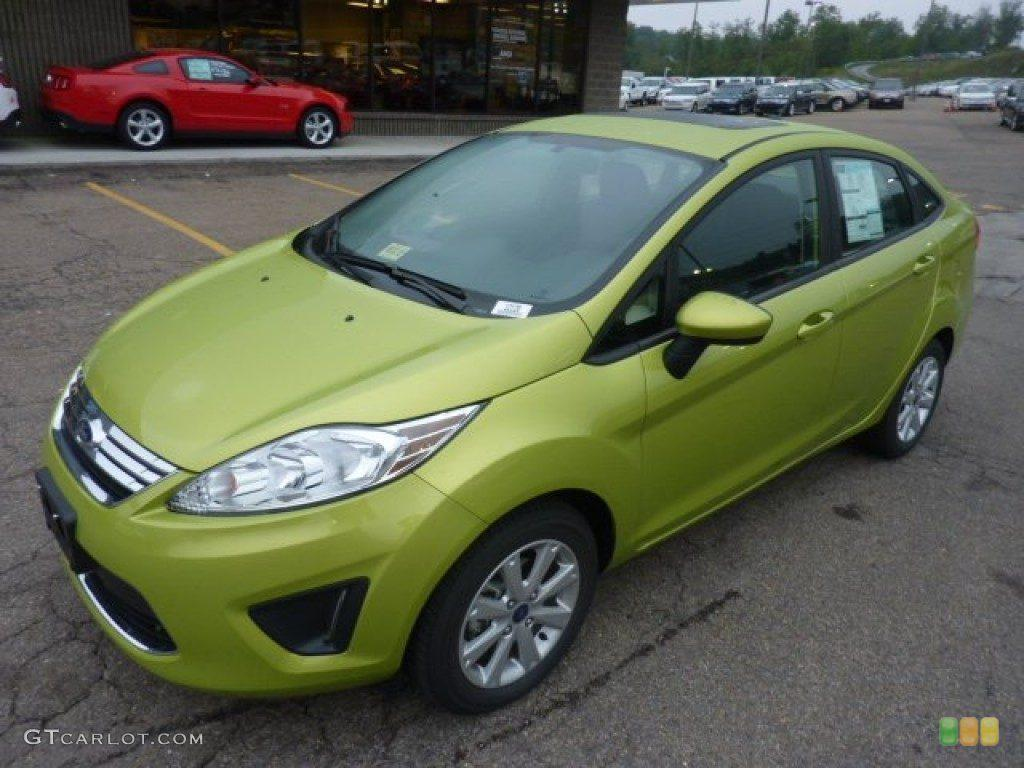Sedan: (34, 109, 981, 715), (38, 46, 354, 150)
